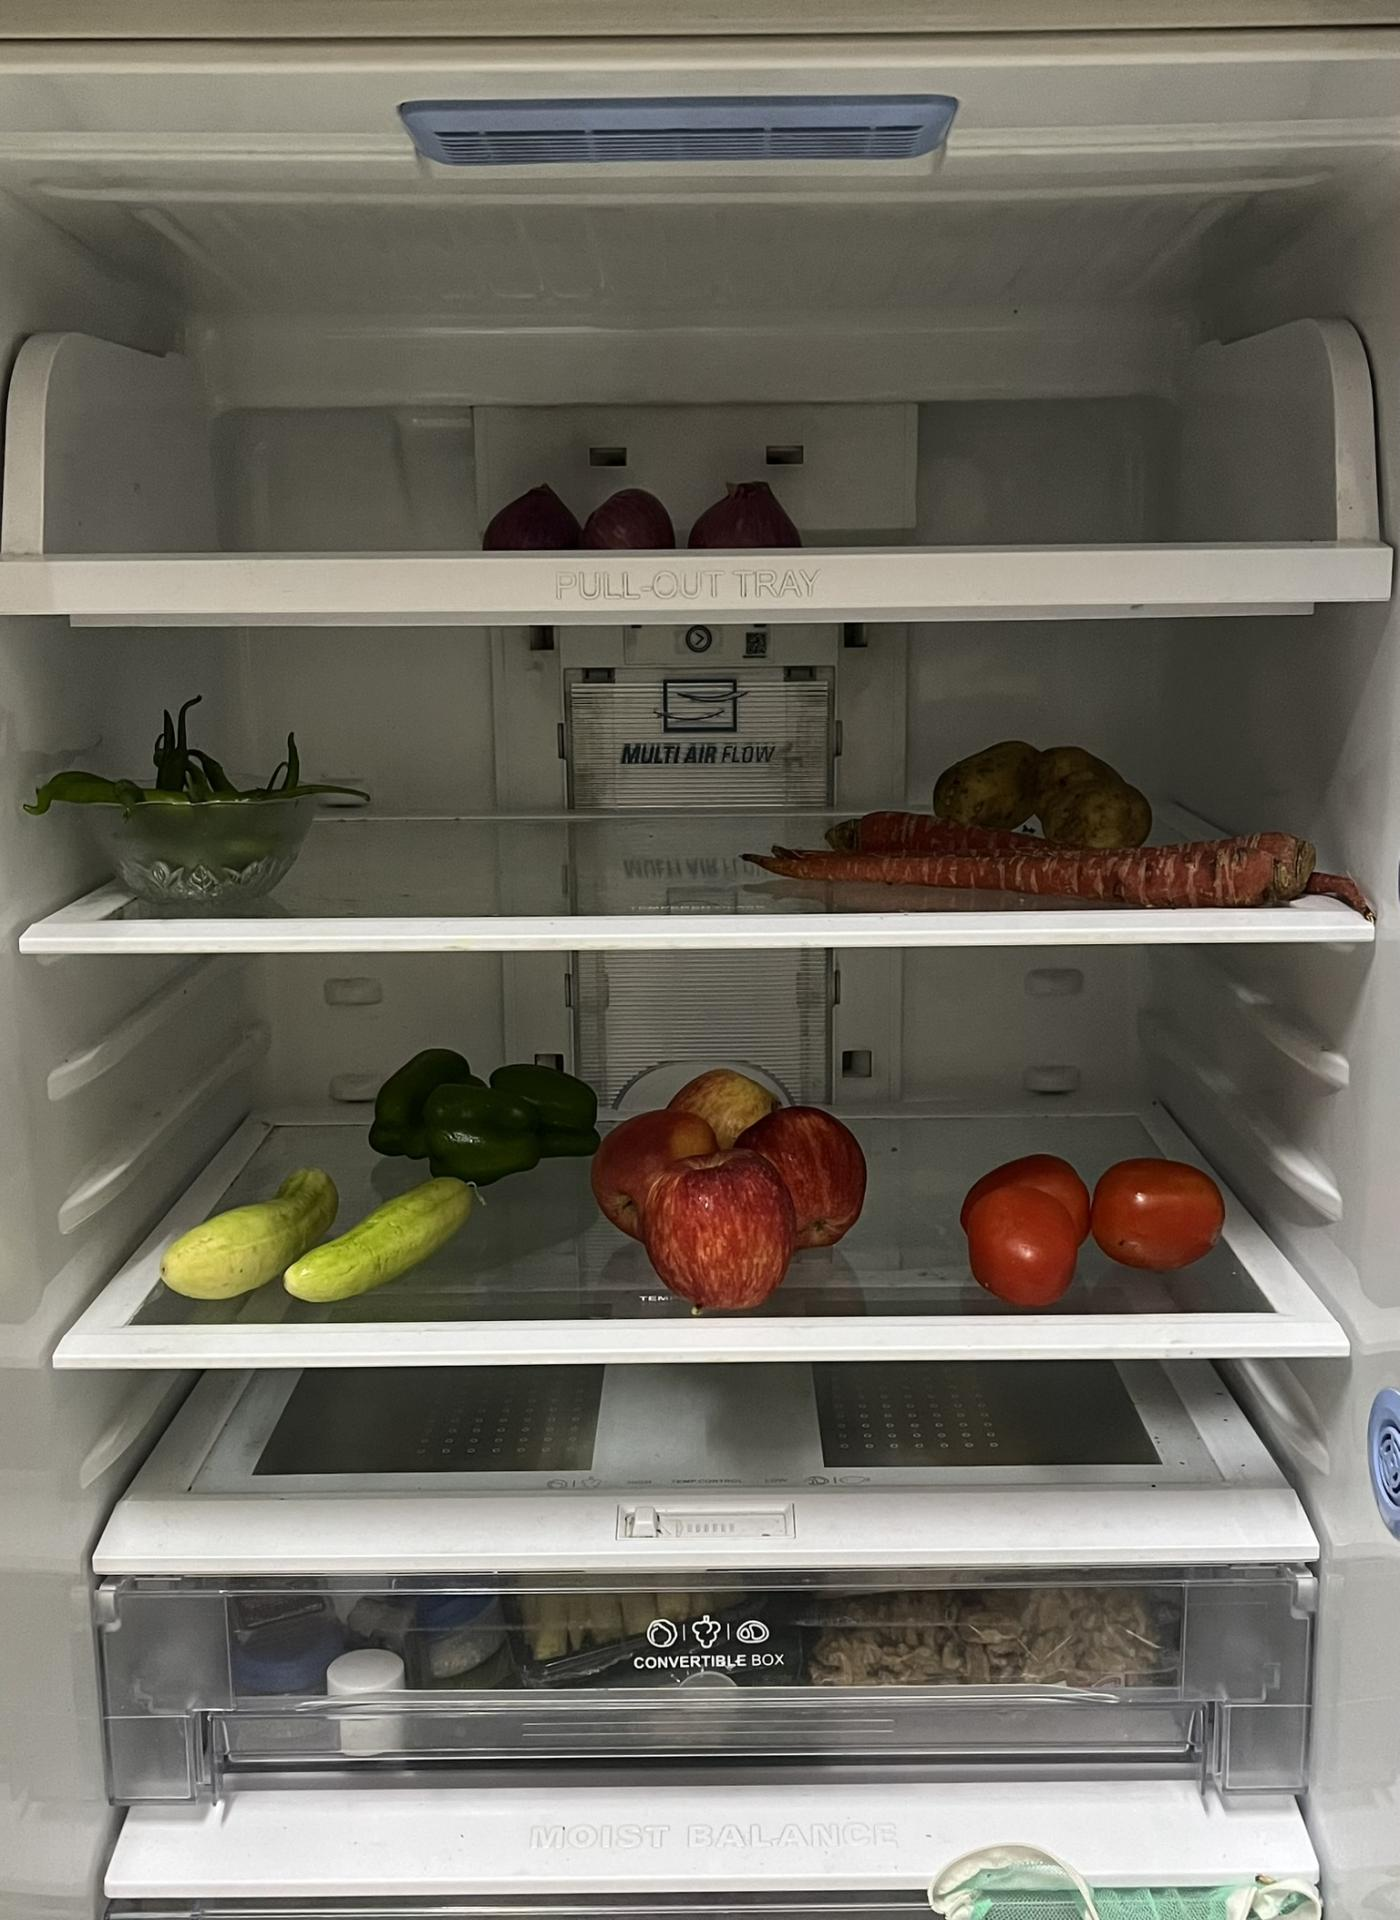apple: (596, 1072, 868, 1313)
capsicum: (374, 1046, 596, 1176)
carrots: (737, 771, 1354, 918)
chillies: (25, 721, 310, 847)
cucumber: (142, 1182, 479, 1309)
milk: (1118, 1868, 1379, 1920)
onion: (488, 484, 805, 556)
potato: (933, 733, 1161, 839)
tomato: (968, 1157, 1227, 1306)
